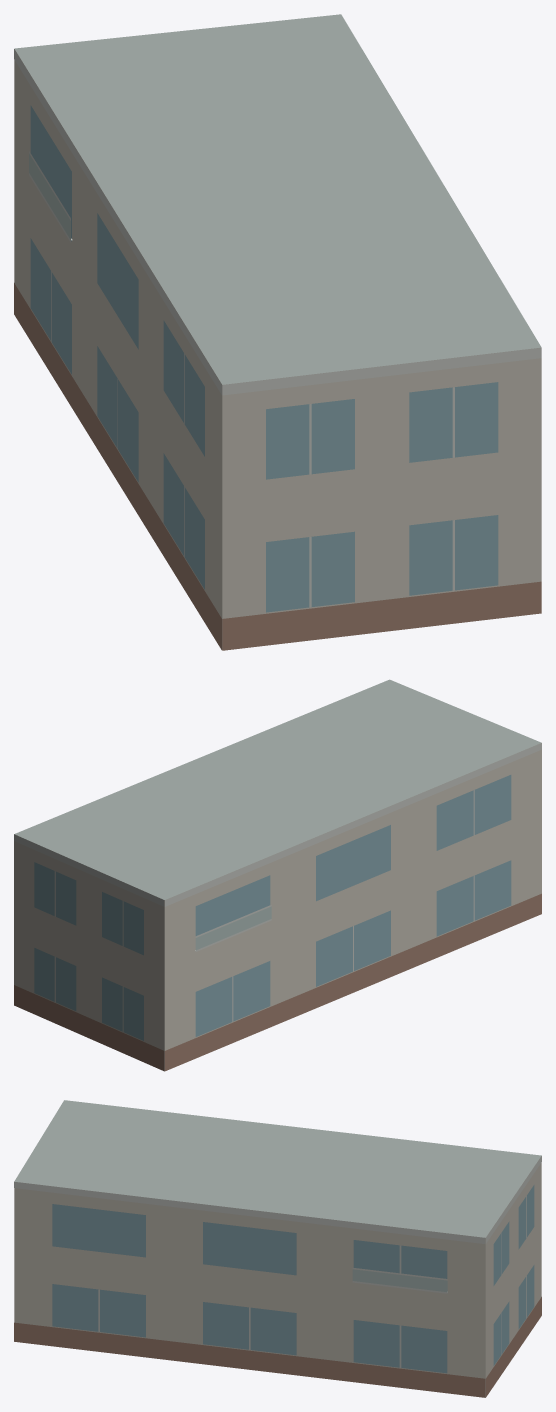
Rendered from survey-upis-32662833.glb.
The picture shows the model from 3 angles, top to bottom: view 1: azimuth 30°, elevation 25°; view 2: azimuth 150°, elevation 25°; view 3: azimuth 270°, elevation 25°; orthographic projection. The views are drawn at different scales.
Visible parts, largest first — view 1: survey-upis-32662833.tmp; view 2: survey-upis-32662833.tmp; view 3: survey-upis-32662833.tmp.
Boxes of the visible parts, x1,y1,x2,y2 form: survey-upis-32662833.tmp: (14, 14, 541, 650); survey-upis-32662833.tmp: (14, 679, 541, 1071); survey-upis-32662833.tmp: (14, 1100, 541, 1397).
Size of the model in its own units: 11.28 by 6.1 by 18.24.
